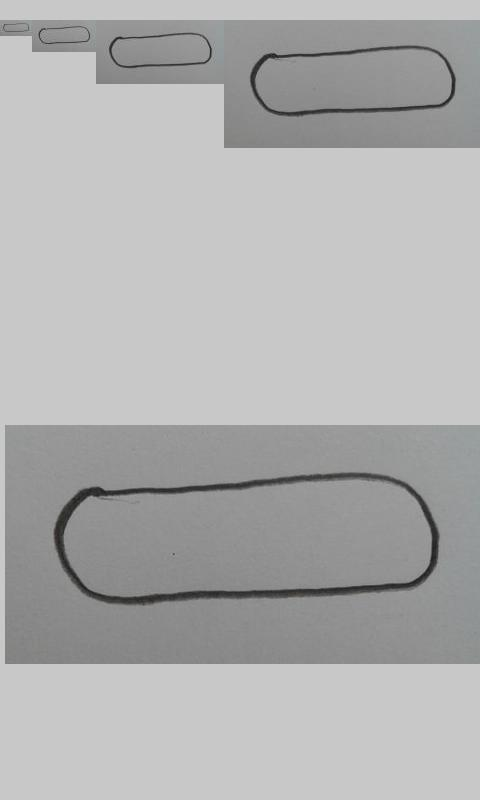chip: (54, 472, 439, 605), (250, 45, 457, 117), (109, 32, 213, 69), (38, 26, 91, 45), (2, 22, 30, 33)
